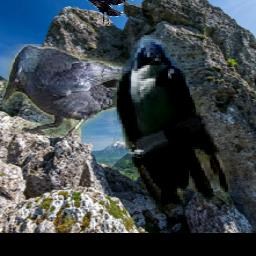Crow: (3, 44, 151, 138), (59, 0, 133, 26)
Swallow: (112, 36, 234, 223)
